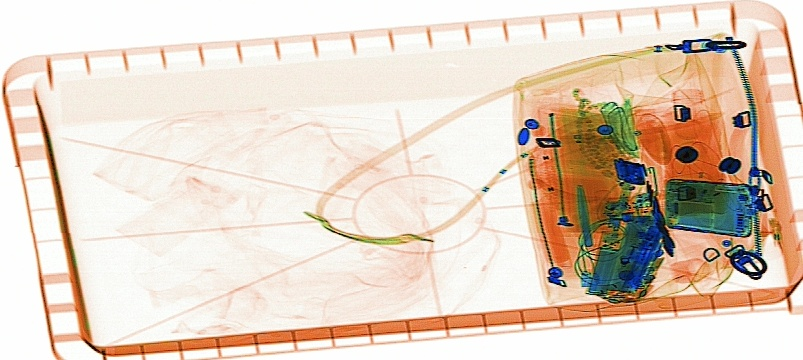powerbank: (578, 212, 666, 302)
